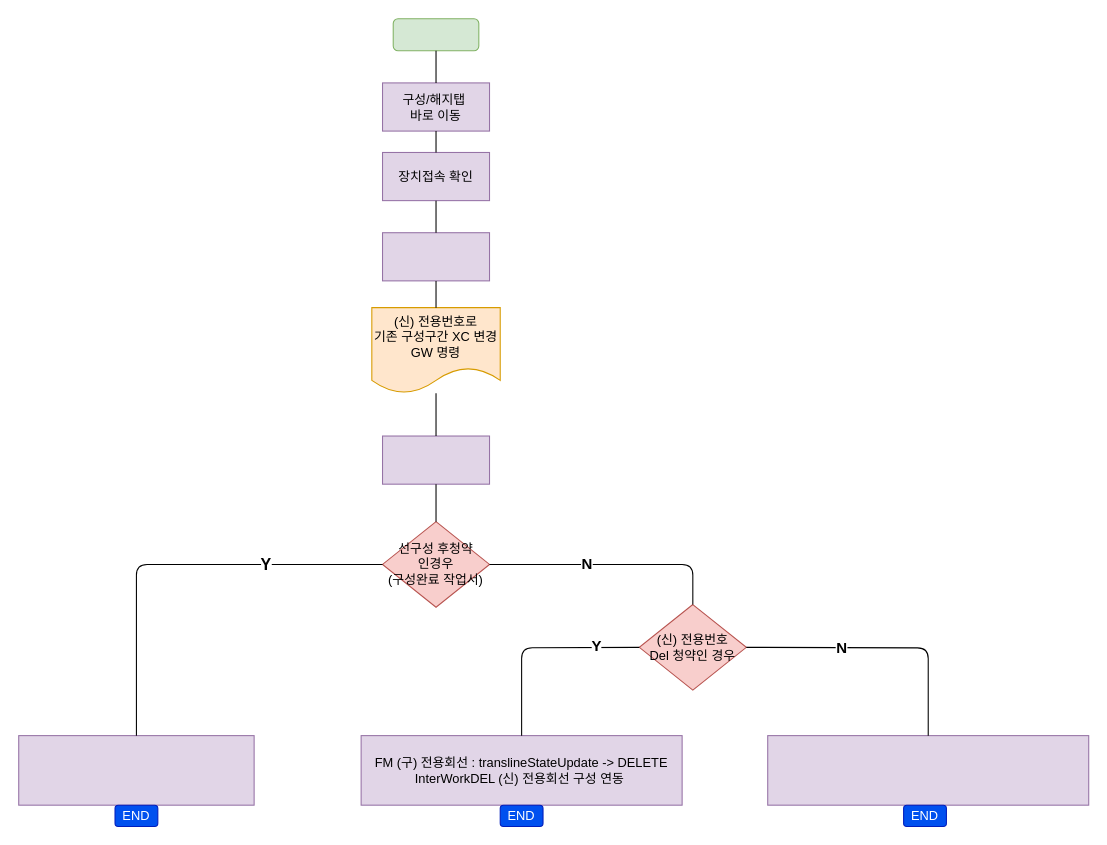
Some shapes in this 1107 by 845 pixel diagram are drawn without their labels. The centre of each missing label's shape, as x and y in pixels:
(신) 전용번호로 FM 구성 연동 & Del 작업 완료 연동: pixel 136 770
FM (구) 전용회선 : translineStateUpdate -> DELETE IntetworkFM (신) 전용회선 구성 연동: pixel 928 770
START: pixel 435 34
선번장 현행화 버튼 클릭: pixel 435 256
작업 완료 버튼 클릭: pixel 435 459
